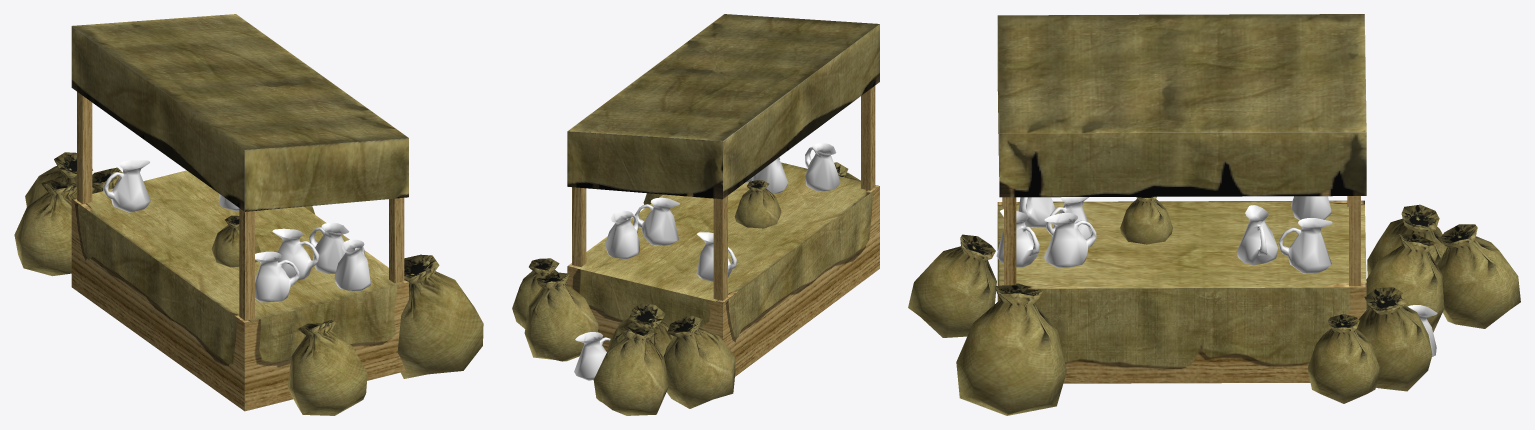
The model's file is store05_2.fbx.
The picture shows the model from 3 angles, left to right: view 1: azimuth 30°, elevation 25°; view 2: azimuth 150°, elevation 25°; view 3: azimuth 270°, elevation 25°; orthographic projection. The views are drawn at different scales.
Visible parts, largest first — view 1: stand_24, bag_201, bag_208, bag_206, pot_76, pot_79, pot_78, pot_74, pot_77, bag_205, bag_203, bag_207; view 2: stand_24, bag_206, bag_203, bag_202, bag_205, pot_73, bag_207, pot_79, pot_80, bag_204, pot_75, pot_76 (+1 smaller); view 3: stand_24, bag_201, bag_203, bag_208, bag_202, bag_204, bag_207, bag_206, pot_77, pot_80, bag_205, pot_73 (+4 smaller).
Part boxes in pixels (left/top/right/bottom): stand_24: left=71, top=14, right=408, bottom=411; bag_201: left=397, top=254, right=483, bottom=378; bag_208: left=287, top=319, right=367, bottom=415; bag_206: left=14, top=179, right=76, bottom=276; pot_76: left=103, top=160, right=150, bottom=212; pot_79: left=255, top=251, right=299, bottom=302; pot_78: left=334, top=239, right=370, bottom=291; pot_74: left=272, top=228, right=319, bottom=280; pot_77: left=309, top=222, right=349, bottom=273; bag_205: left=211, top=215, right=260, bottom=267; bag_203: left=25, top=152, right=92, bottom=206; bag_207: left=92, top=167, right=122, bottom=193; stand_24: left=567, top=14, right=879, bottom=376; bag_206: left=663, top=315, right=735, bottom=408; bag_203: left=593, top=326, right=668, bottom=415; bag_202: left=524, top=272, right=598, bottom=361; bag_205: left=734, top=180, right=781, bottom=228; pot_73: left=635, top=197, right=679, bottom=245; bag_207: left=607, top=303, right=673, bottom=356; pot_79: left=805, top=143, right=840, bottom=191; pot_80: left=605, top=210, right=639, bottom=259; bag_204: left=512, top=258, right=567, bottom=328; pot_75: left=574, top=332, right=610, bottom=380; pot_76: left=696, top=232, right=736, bottom=281; stand_24: left=997, top=14, right=1366, bottom=383; bag_201: left=956, top=283, right=1066, bottom=415; bag_203: left=1437, top=224, right=1520, bottom=328; bag_208: left=908, top=234, right=996, bottom=337; bag_202: left=1357, top=287, right=1432, bottom=391; bag_204: left=1307, top=314, right=1379, bottom=403; bag_207: left=1366, top=234, right=1444, bottom=332; bag_206: left=1367, top=204, right=1447, bottom=276; pot_77: left=1044, top=213, right=1096, bottom=268; pot_80: left=1278, top=218, right=1332, bottom=273; bag_205: left=1120, top=196, right=1172, bottom=244; pot_73: left=1237, top=205, right=1278, bottom=265.
Size of the model in its own units: 60.47 by 58.02 by 110.
